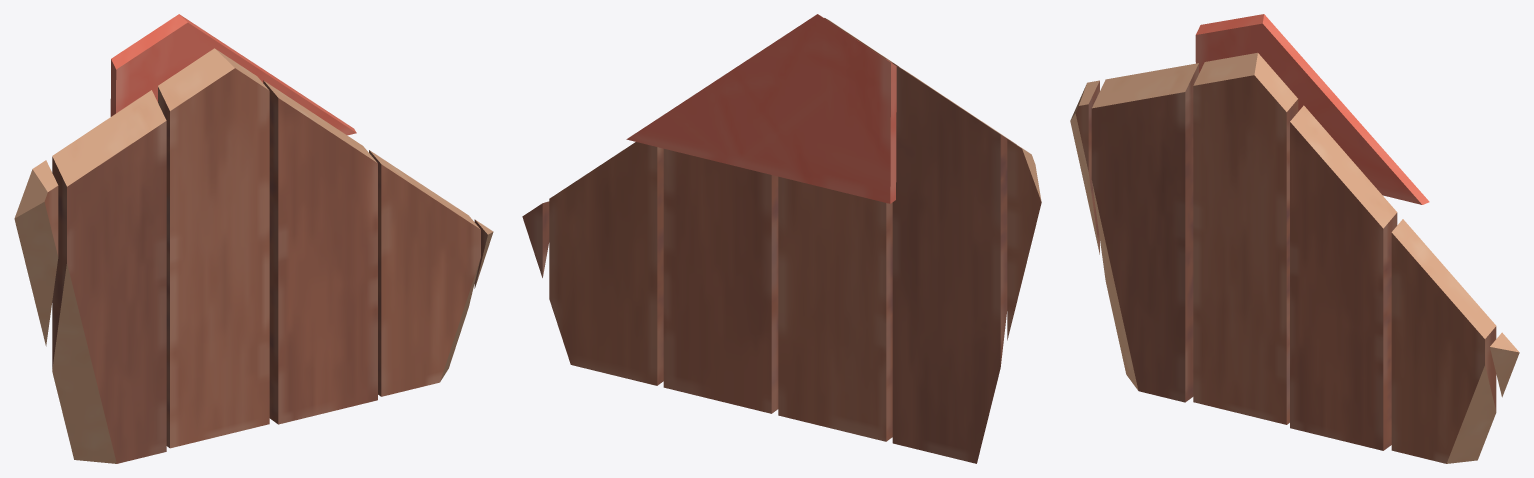
Rendered from stall_s09.fbx.
3 views of the same model, side by side, from view 1: azimuth 30°, elevation 25°; view 2: azimuth 150°, elevation 25°; view 3: azimuth 330°, elevation 25° (orthographic). The views are drawn at different scales.
Parts seen in each view (by area): view 1: stall_s09; view 2: stall_s09; view 3: stall_s09.
Boxes of the visible parts, x1,y1,x2,y2 form: stall_s09: [14, 14, 493, 463]; stall_s09: [522, 14, 1041, 463]; stall_s09: [1070, 14, 1519, 463].
Bounding box in the file's own units: 3.17 × 2.53 × 0.42.
